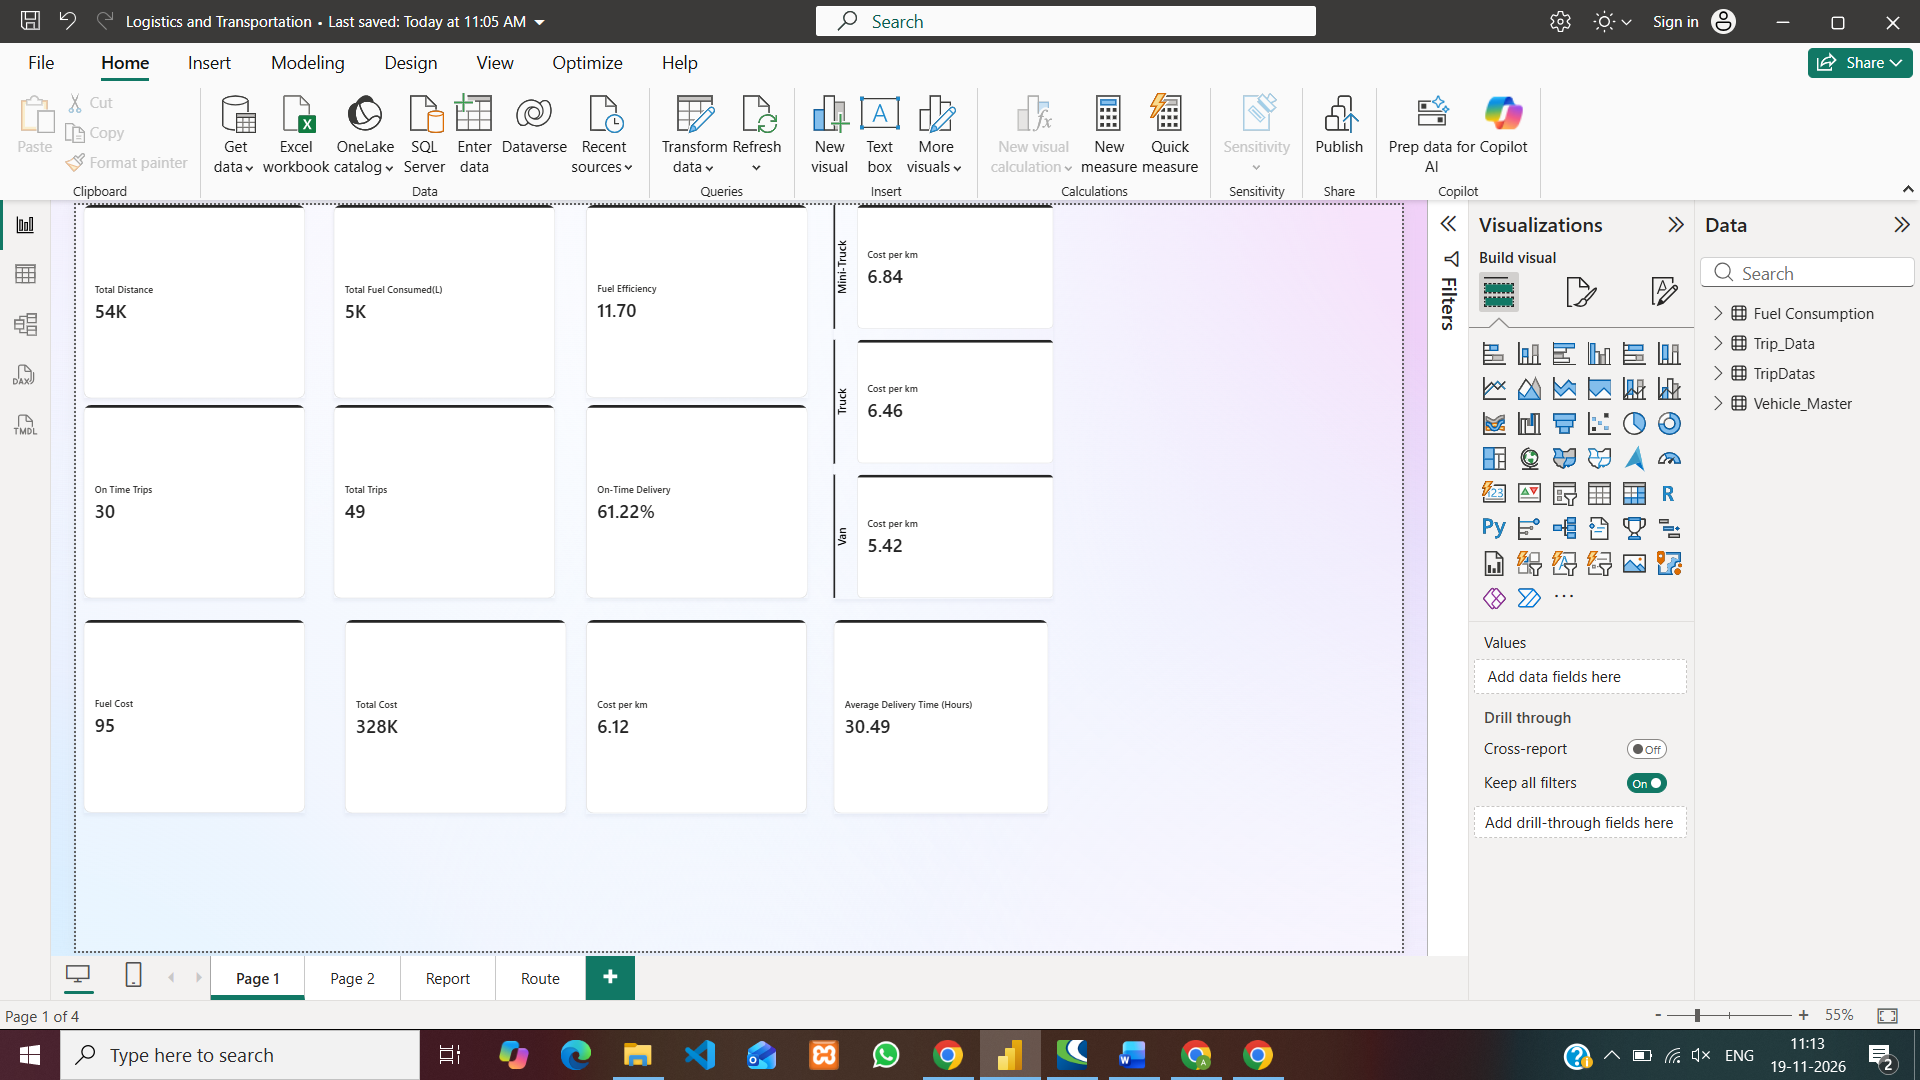

The page's visual inventory and layout, read from the dashboard file:
{"tool":"powerbi","page":{"name":"Page 1","canvas":[1920,1080],"ordinal":0},"visuals":[{"type":"cardVisual","fields":{"Data":["TripDatas.Fuel Efficiency"]},"box":[738.9,0,321.1,279.9],"z":0},{"type":"cardVisual","fields":{"Data":["TripDatas.Total Distance"]},"box":[10.3,0,321,280],"z":1},{"type":"cardVisual","fields":{"Data":["TripDatas.Total Fuel Consumed(L)"]},"box":[372.6,0,321,280],"z":2},{"type":"cardVisual","fields":{"Data":["TripDatas.On Time Trips"]},"box":[10,290,321,280],"z":3},{"type":"cardVisual","fields":{"Data":["TripDatas.Total Trips"]},"box":[372.6,290.2,321,280],"z":4},{"type":"cardVisual","fields":{"Data":["TripDatas.On-Time Delivery"]},"box":[738.9,290.2,321,280],"z":5},{"type":"cardVisual","fields":{"Data":["TripDatas.Total Cost"]},"box":[389,601,321,280],"z":6},{"type":"cardVisual","fields":{"Data":["TripDatas.Cost per km"]},"box":[738.9,601,380.8,279.9],"z":7},{"type":"cardVisual","fields":{"Data":["TripDatas.Fuel Cost"]},"box":[10.3,601,321.1,279.9],"z":8},{"type":"cardVisual","fields":{"Data":["TripDatas.Cost per km"],"Rows":["TripDatas.Vehicle_type"]},"box":[1171.2,55.6,372.6,461.1],"z":9},{"type":"cardVisual","fields":{"Data":["TripDatas.Average Delivery Time (Hours)"]},"box":[1554.5,56.1,365.6,224.4],"z":10}]}

Visuals, with their boxes on the page's 1920x1080 design canvas (x1, y1, x2, y2). These are canvas units, not pixel positions in the 1920x1080 screenshot, which may show the page scaled, cropped or inside an application window:
cardVisual - TripDatas.Fuel Efficiency: <bbox>739, 0, 1060, 280</bbox>
cardVisual - TripDatas.Total Distance: <bbox>10, 0, 331, 280</bbox>
cardVisual - TripDatas.Total Fuel Consumed(L): <bbox>373, 0, 694, 280</bbox>
cardVisual - TripDatas.On Time Trips: <bbox>10, 290, 331, 570</bbox>
cardVisual - TripDatas.Total Trips: <bbox>373, 290, 694, 570</bbox>
cardVisual - TripDatas.On-Time Delivery: <bbox>739, 290, 1060, 570</bbox>
cardVisual - TripDatas.Total Cost: <bbox>389, 601, 710, 881</bbox>
cardVisual - TripDatas.Cost per km: <bbox>739, 601, 1120, 881</bbox>
cardVisual - TripDatas.Fuel Cost: <bbox>10, 601, 331, 881</bbox>
cardVisual - TripDatas.Cost per km x TripDatas.Vehicle_type: <bbox>1171, 56, 1544, 517</bbox>
cardVisual - TripDatas.Average Delivery Time (Hours): <bbox>1554, 56, 1920, 280</bbox>
